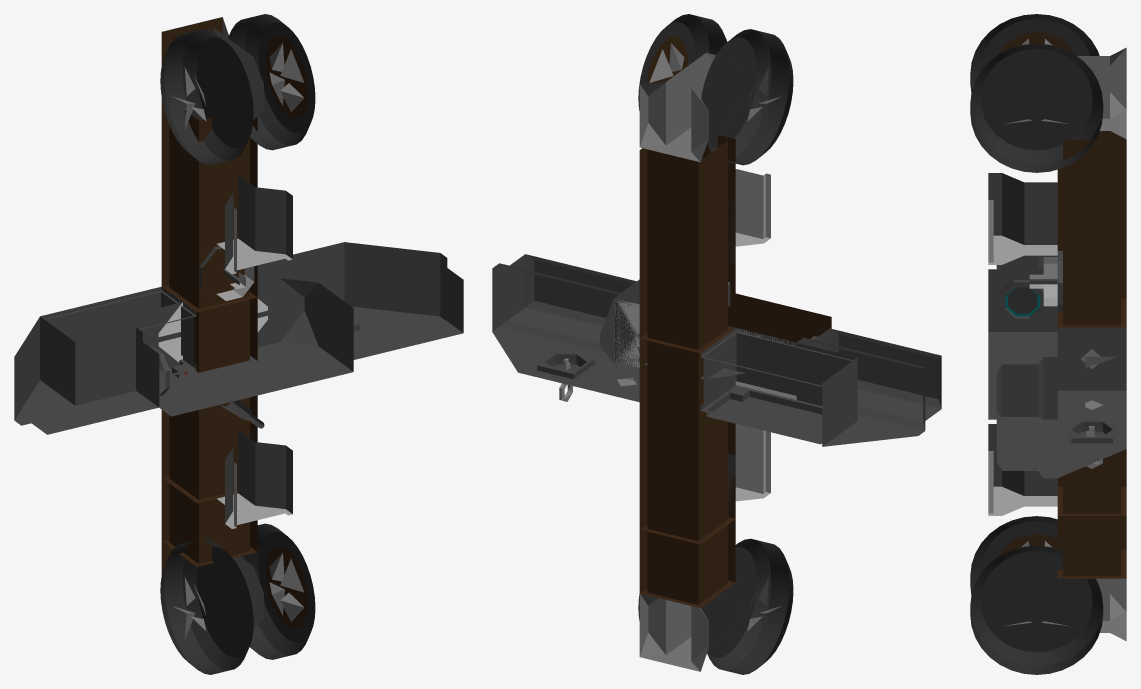
File: 10699-b15b7add-98a3-4b09-a2e7-0f7811008bf4.glb
3 views of the same model, side by side, from view 1: azimuth 30°, elevation 25°; view 2: azimuth 150°, elevation 25°; view 3: azimuth 270°, elevation 25° (orthographic).
Visible parts, largest first — view 1: Object_6.Mesh; view 2: Object_6.Mesh; view 3: Object_6.Mesh.
Part boxes in pixels (box(x1,y1,x2,y2)): Object_6.Mesh: box(14, 14, 463, 674); Object_6.Mesh: box(492, 14, 941, 674); Object_6.Mesh: box(970, 14, 1126, 674).
Bounding box in the file's own units: 0.2857 × 0.4049 × 0.0922.
